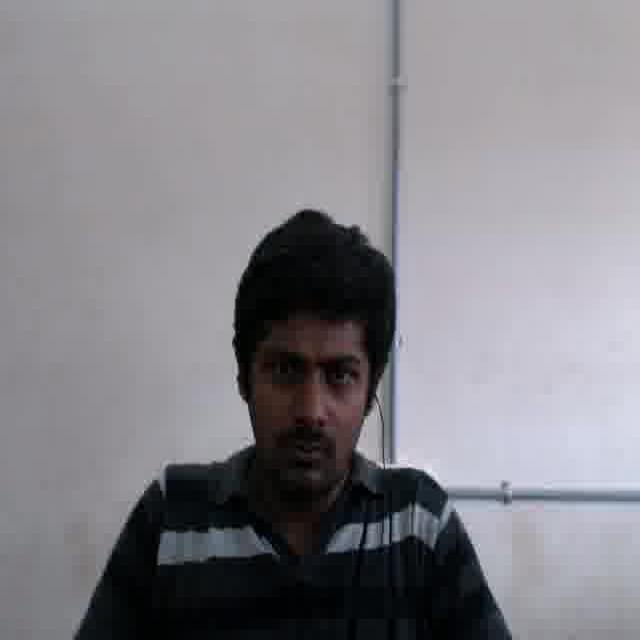Engaged: (248, 307, 364, 496)
